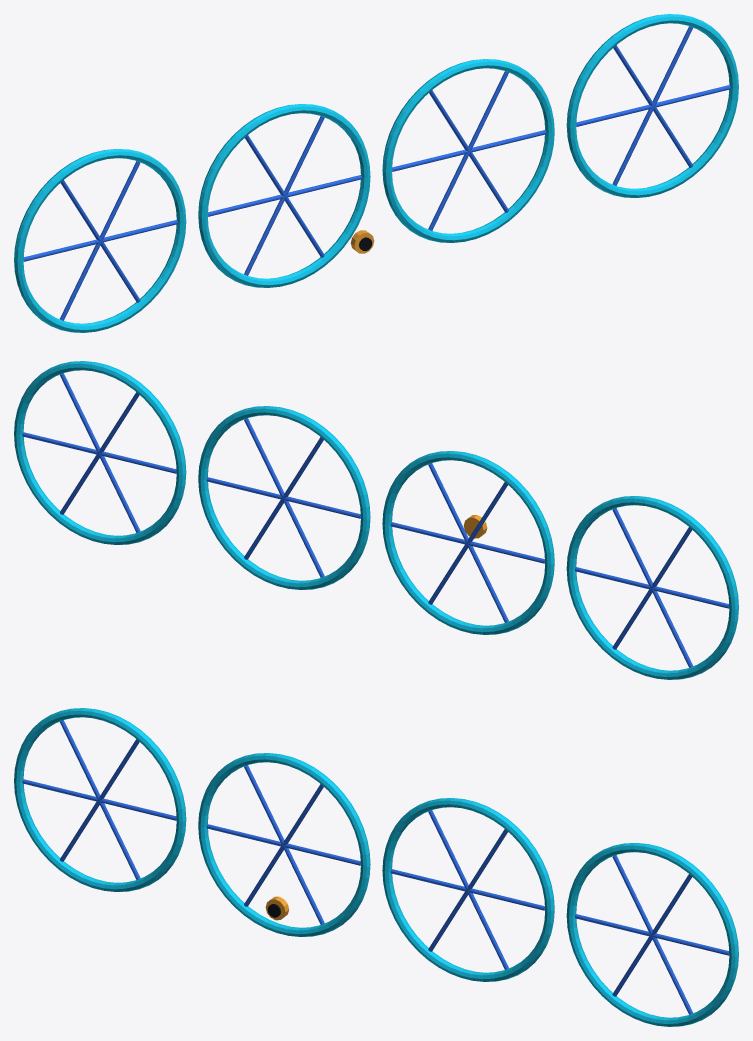
Rendered from 83_L88_AtmosphericDigitalFlowHologram.fbx.
The picture shows the model from 3 angles, top to bottom: view 1: azimuth 30°, elevation 25°; view 2: azimuth 150°, elevation 25°; view 3: azimuth 330°, elevation 25°; orthographic projection.
Parts seen in each view (by area): view 1: L87_AtmosphericDigitalFlowHologram_Part_0000, L87_AtmosphericDigitalFlowHologram_Part_0001, L87_AtmosphericDigitalFlowHologram_Part_0002; view 2: L87_AtmosphericDigitalFlowHologram_Part_0000, L87_AtmosphericDigitalFlowHologram_Part_0001, L87_AtmosphericDigitalFlowHologram_Part_0002; view 3: L87_AtmosphericDigitalFlowHologram_Part_0000, L87_AtmosphericDigitalFlowHologram_Part_0001, L87_AtmosphericDigitalFlowHologram_Part_0002.
Part boxes in pixels (bbox=[...]): L87_AtmosphericDigitalFlowHologram_Part_0000: bbox=[14, 14, 738, 332]; L87_AtmosphericDigitalFlowHologram_Part_0001: bbox=[23, 26, 730, 320]; L87_AtmosphericDigitalFlowHologram_Part_0002: bbox=[576, 45, 693, 185]; L87_AtmosphericDigitalFlowHologram_Part_0000: bbox=[14, 361, 738, 679]; L87_AtmosphericDigitalFlowHologram_Part_0001: bbox=[22, 373, 729, 667]; L87_AtmosphericDigitalFlowHologram_Part_0002: bbox=[60, 392, 176, 532]; L87_AtmosphericDigitalFlowHologram_Part_0000: bbox=[14, 708, 738, 1026]; L87_AtmosphericDigitalFlowHologram_Part_0001: bbox=[22, 720, 729, 969]; L87_AtmosphericDigitalFlowHologram_Part_0002: bbox=[575, 855, 692, 1014].
Size of the model in its own units: 472 by 111 by 55.
